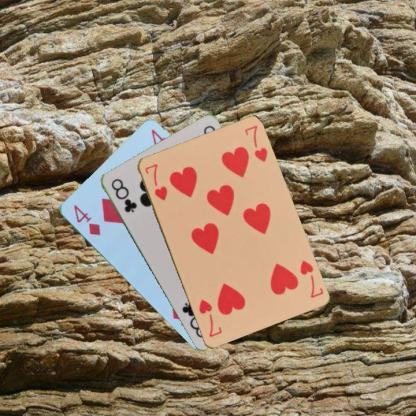4d: (71, 202, 101, 237)
7h: (297, 258, 324, 299), (142, 160, 168, 202)
8c: (108, 176, 138, 214)
